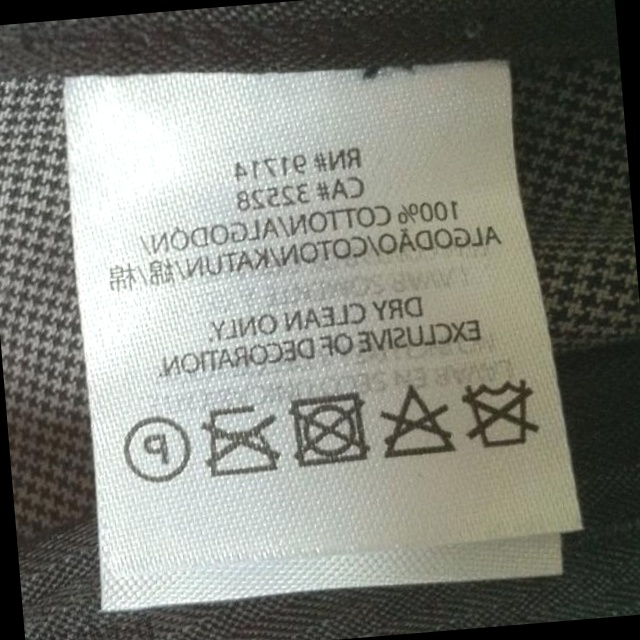DN_bleach: (379, 381, 456, 464)
DN_iron: (199, 398, 280, 485)
DN_tumble_dry: (287, 383, 373, 469)
DN_wash: (458, 371, 542, 456)
dry_clean_any_solvent_except_trichloroethylene: (118, 409, 194, 488)
